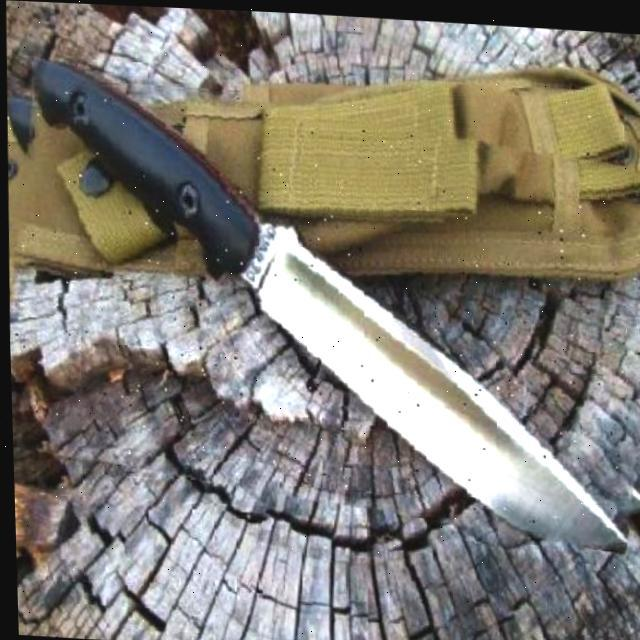knife: (2, 74, 640, 531)
